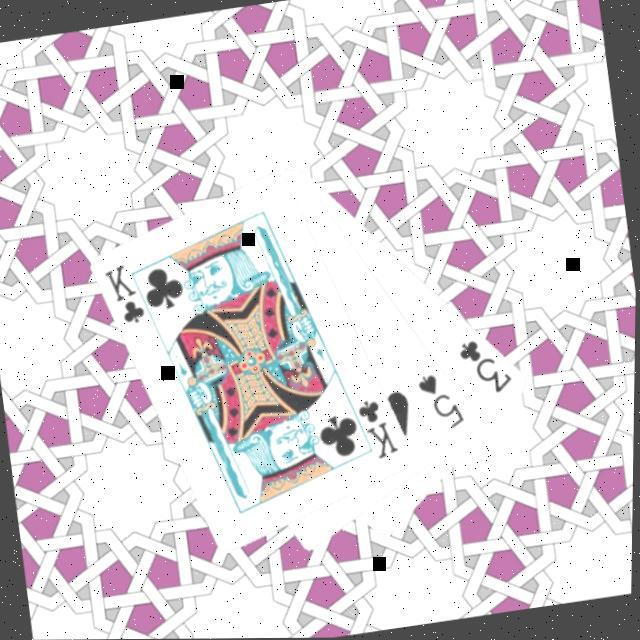3C: (453, 330, 518, 400)
5S: (412, 366, 470, 435)
KC: (99, 256, 160, 331), (343, 391, 403, 465)
